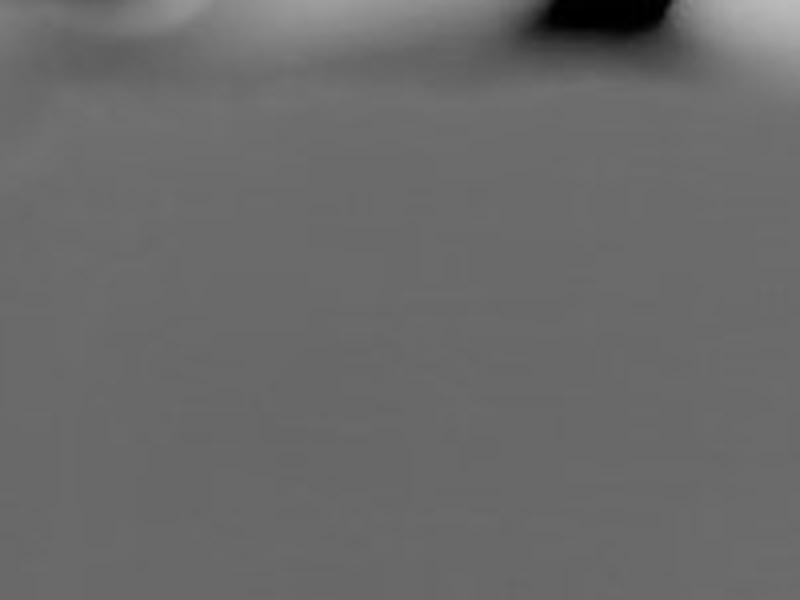defect: (544, 1, 674, 44)
